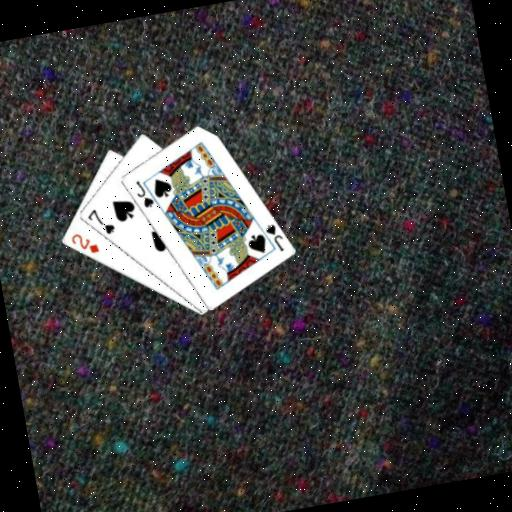2D: (66, 227, 100, 259)
7S: (82, 203, 117, 239)
JS: (131, 175, 156, 210), (261, 220, 286, 255)
